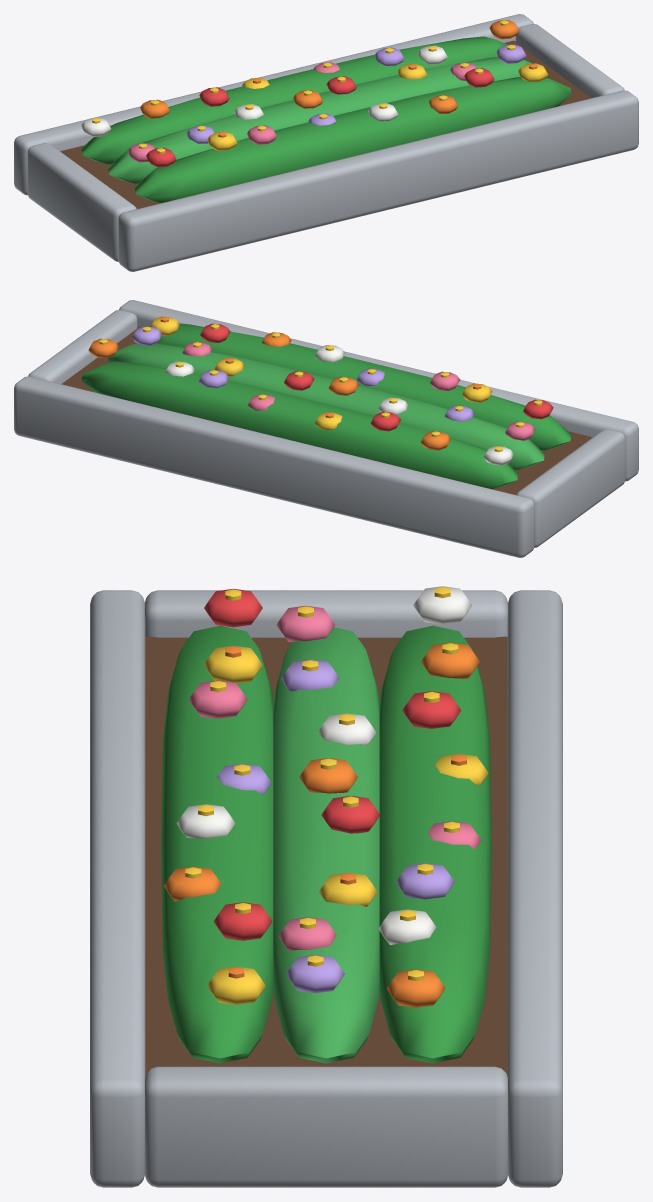
Rendered from canteiro_flores.glb.
3 renders of one model, top to bottom at view 1: azimuth 30°, elevation 25°; view 2: azimuth 150°, elevation 25°; view 3: azimuth 270°, elevation 25°, orthographic. The views are drawn at different scales.
Parts seen in each view (by area): view 1: canteiro_flores; view 2: canteiro_flores; view 3: canteiro_flores.
Part boxes in pixels (x1,y1,x2,y2): canteiro_flores: (14, 14, 638, 271); canteiro_flores: (14, 300, 638, 557); canteiro_flores: (90, 586, 562, 1187).
Size of the model in its own units: 3 by 0.4791 by 1.2.
1 material, 1 textured.
